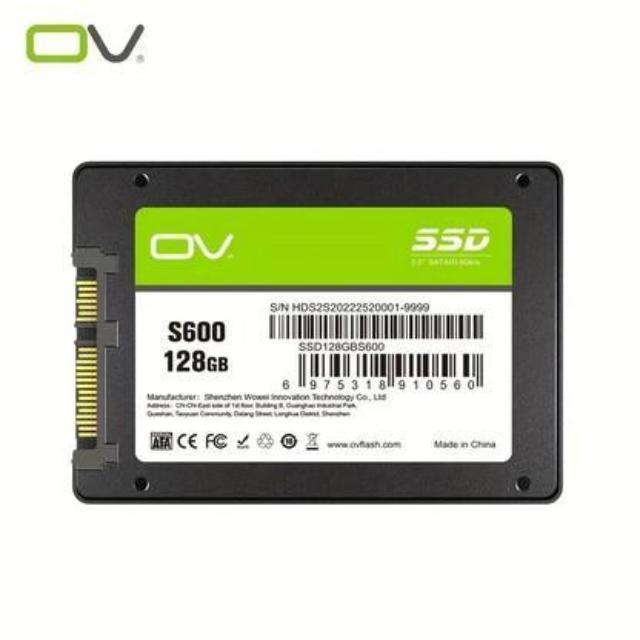DISK: (60, 155, 566, 522)
